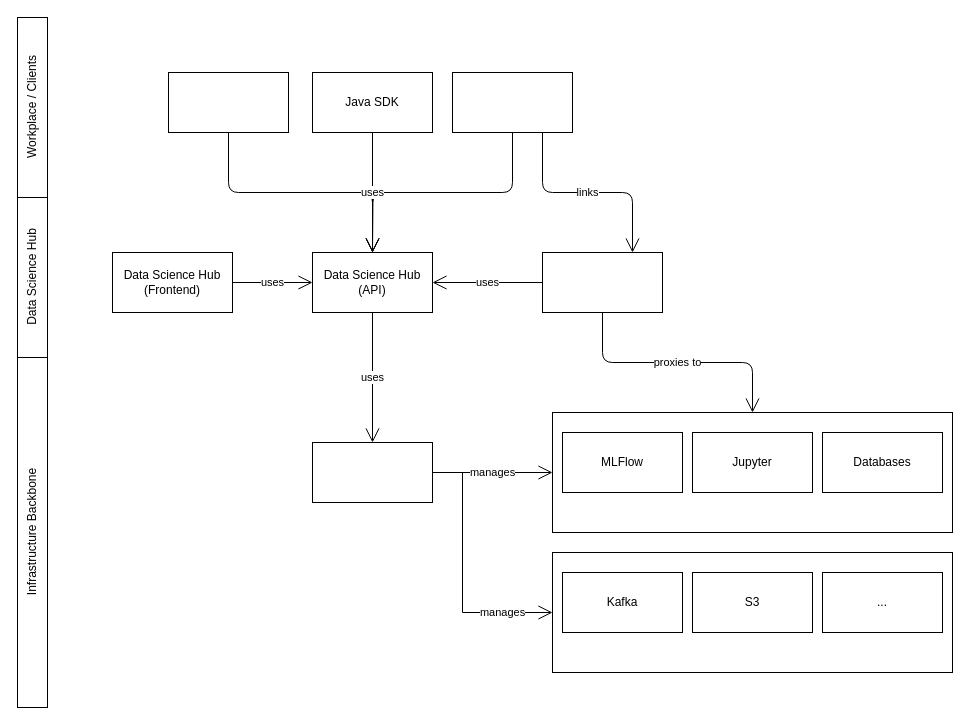
This 970x725 diagram has some shape labels left out. Here are the shapes that lost their labels. From the top down, the box of each, then its label:
(168, 72, 288, 132): Python SDK
(452, 72, 572, 132): CLI
(542, 252, 662, 312): Data Science Hub (Reverse Proxy)
(312, 442, 432, 502): Infrastructure Operator
(552, 412, 952, 532): Workspace Ressources
(552, 552, 952, 672): Data Management Resources
